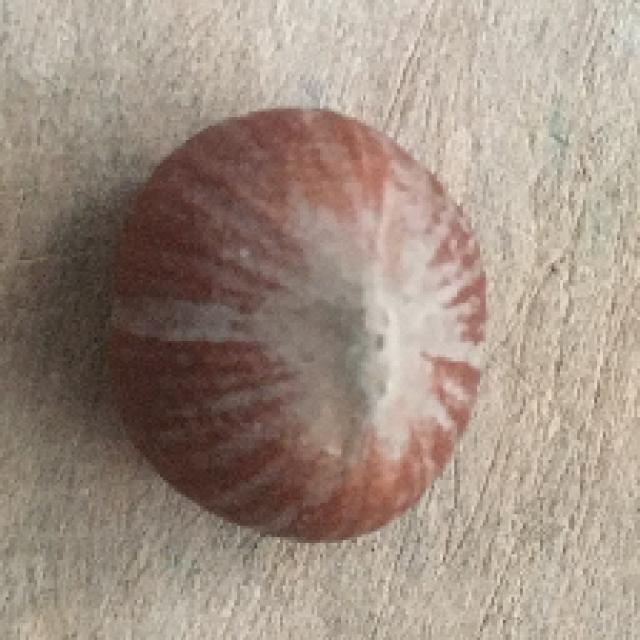qualityHazelnut: (104, 103, 491, 544)
